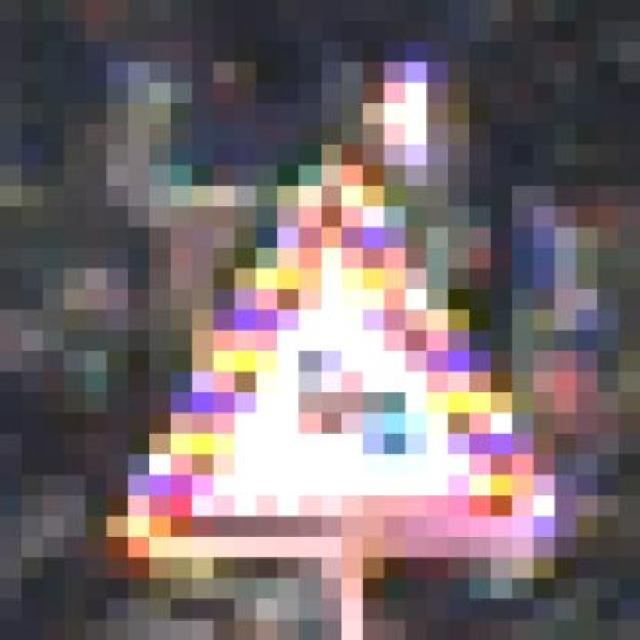Left Zig Zag Traffic: (107, 124, 576, 578)
